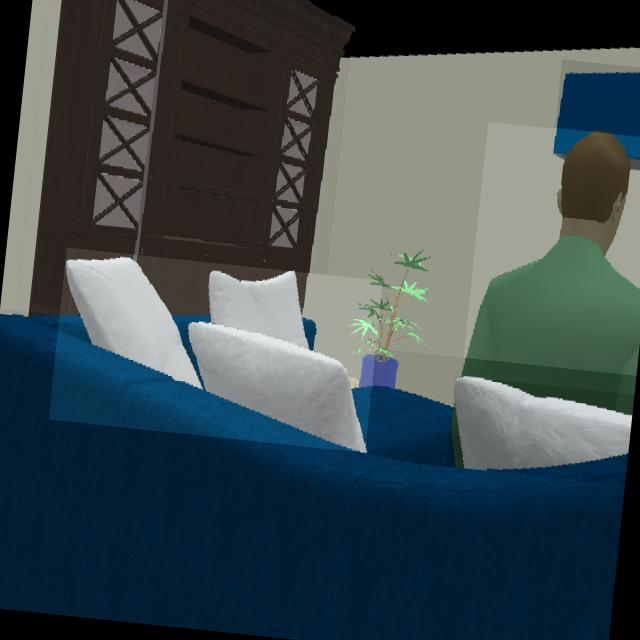bookshelf: (35, 0, 353, 317)
cabinet: (552, 74, 640, 169)
person: (461, 133, 640, 424)
pillow: (65, 260, 364, 452), (453, 377, 632, 470)
sofa: (0, 316, 628, 640)
